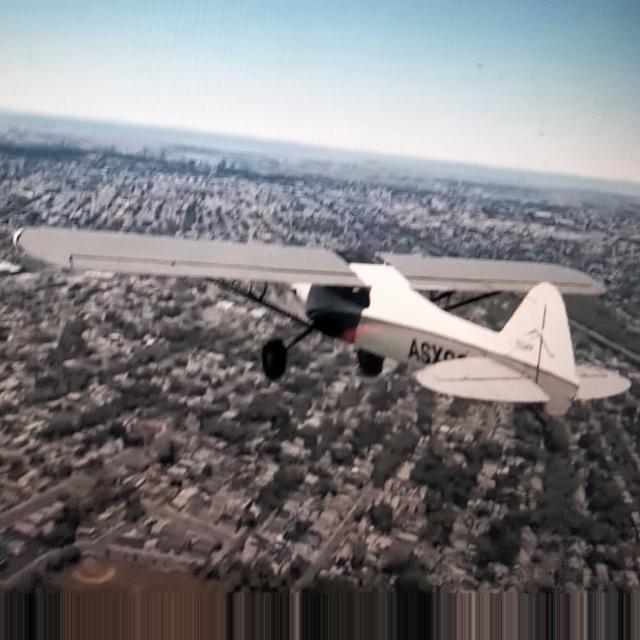iha: (9, 224, 631, 416)
